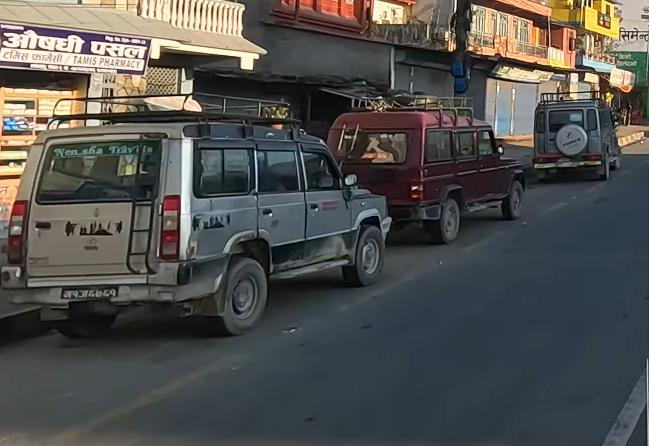SUV: (9, 91, 393, 334), (333, 105, 532, 237), (530, 91, 627, 187)
